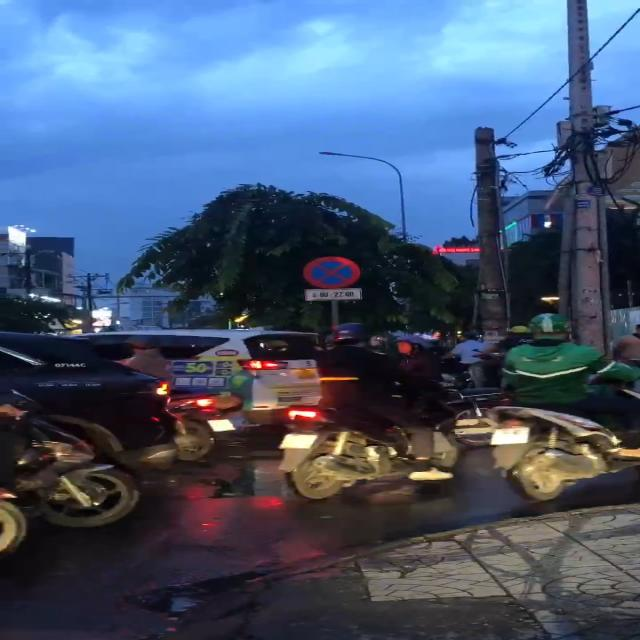Bien bao cam dung xe va do xe: (297, 253, 368, 290)
